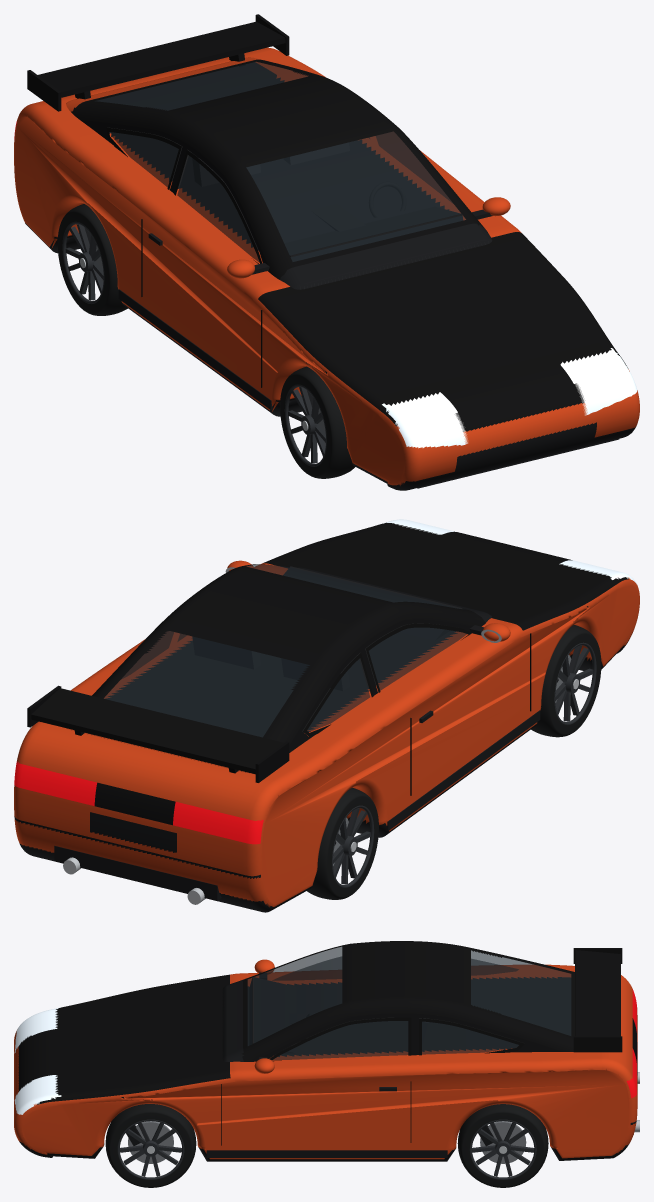
File: Celica.glb
3 views of the same model, one above another, from view 1: azimuth 30°, elevation 25°; view 2: azimuth 150°, elevation 25°; view 3: azimuth 270°, elevation 25° (orthographic). The views are drawn at different scales.
Parts seen in each view (by area): view 1: Body, Greenhouse, WingBlade, Dashboard, Wheel_FR_Tyre, DoorGlass_R, Wheel_RR_Tyre, QuarterGlass_R, SideSkirt_R, CabinSide_R, Wheel_RR_Spokes, Wheel_FR_Spokes (+3 smaller); view 2: Body, Greenhouse, WingBlade, DoorGlass_R, Wheel_RR_Tyre, Wheel_FR_Tyre, RearDiffuser, Dashboard, QuarterGlass_R, SeatBack (×2), SideSkirt_R, CabinSide_R (+7 smaller); view 3: Body, Greenhouse, WingBlade, DoorGlass_L, Wheel_FL_Tyre, Wheel_RL_Tyre, Dashboard, QuarterGlass_L, SideSkirt_L, CabinSide_L, Wheel_RL_Spokes, Wheel_FL_Spokes (+9 smaller).
Boxes of the visible parts, x1=… form: Body: x1=14, y1=47, x2=639, y2=490; Greenhouse: x1=66, y1=57, x2=492, y2=289; WingBlade: x1=38, y1=21, x2=285, y2=97; Dashboard: x1=284, y1=207, x2=462, y2=261; Wheel_FR_Tyre: x1=280, y1=366, x2=355, y2=478; DoorGlass_R: x1=177, y1=156, x2=259, y2=262; Wheel_RR_Tyre: x1=57, y1=204, x2=127, y2=315; QuarterGlass_R: x1=111, y1=132, x2=178, y2=186; SideSkirt_R: x1=118, y1=289, x2=272, y2=409; CabinSide_R: x1=80, y1=120, x2=271, y2=274; Wheel_RR_Spokes: x1=65, y1=224, x2=103, y2=300; Wheel_FR_Spokes: x1=288, y1=387, x2=325, y2=463; Body: x1=14, y1=519, x2=639, y2=912; Greenhouse: x1=67, y1=564, x2=491, y2=773; WingBlade: x1=31, y1=688, x2=283, y2=774; DoorGlass_R: x1=369, y1=627, x2=466, y2=690; Wheel_RR_Tyre: x1=307, y1=787, x2=378, y2=899; Wheel_FR_Tyre: x1=531, y1=625, x2=601, y2=737; RearDiffuser: x1=54, y1=845, x2=221, y2=900; Dashboard: x1=283, y1=566, x2=462, y2=640; QuarterGlass_R: x1=307, y1=659, x2=369, y2=731; SeatBack (×2): x1=192, y1=637, x2=349, y2=690; SideSkirt_R: x1=386, y1=710, x2=540, y2=830; CabinSide_R: x1=289, y1=619, x2=472, y2=752; Body: x1=14, y1=964, x2=637, y2=1161; Greenhouse: x1=222, y1=941, x2=574, y2=1061; WingBlade: x1=575, y1=950, x2=620, y2=1036; DoorGlass_L: x1=273, y1=1021, x2=408, y2=1059; Wheel_FL_Tyre: x1=105, y1=1104, x2=196, y2=1187; Wheel_RL_Tyre: x1=457, y1=1104, x2=548, y2=1187; Dashboard: x1=249, y1=977, x2=295, y2=1053; QuarterGlass_L: x1=422, y1=1021, x2=518, y2=1054; SideSkirt_L: x1=206, y1=1150, x2=447, y2=1157; CabinSide_L: x1=253, y1=1013, x2=562, y2=1061; Wheel_RL_Spokes: x1=472, y1=1122, x2=534, y2=1176; Wheel_FL_Spokes: x1=119, y1=1122, x2=181, y2=1176.
Bounding box in the file's own units: 1.89 × 1.38 × 4.62.
